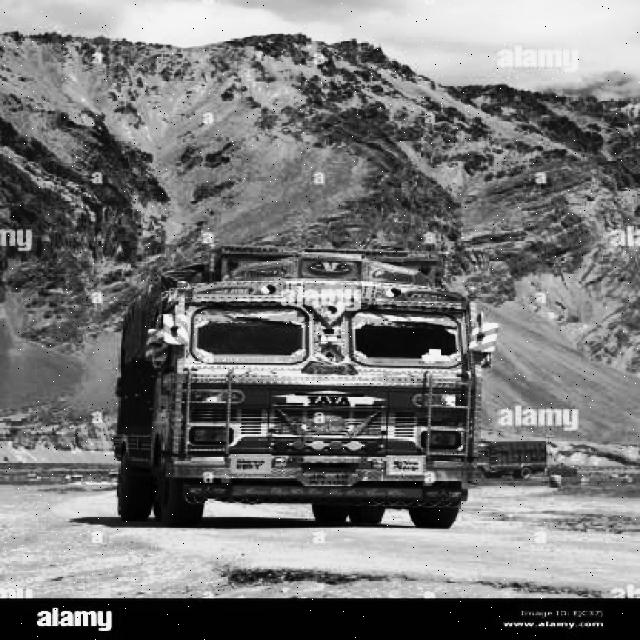HCV: (124, 249, 468, 515)
